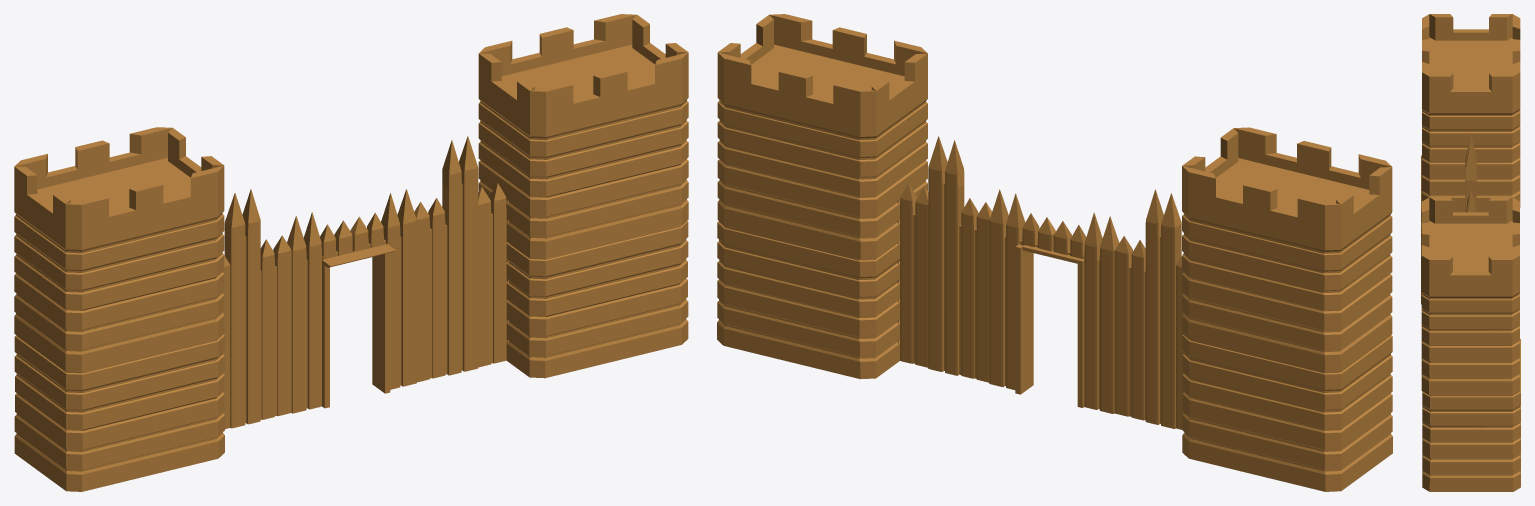
Rendered from Wall1.fbx.
3 views of the same model, side by side, from view 1: azimuth 30°, elevation 25°; view 2: azimuth 150°, elevation 25°; view 3: azimuth 270°, elevation 25° (orthographic). The views are drawn at different scales.
Visible parts, largest first — view 1: Wall1; view 2: Wall1; view 3: Wall1.
Part boxes in pixels (left/top/right/bottom): Wall1: left=14, top=14, right=688, bottom=491; Wall1: left=717, top=14, right=1392, bottom=491; Wall1: left=1421, top=14, right=1520, bottom=491.
Size of the model in its own units: 1775 by 781 by 304.
